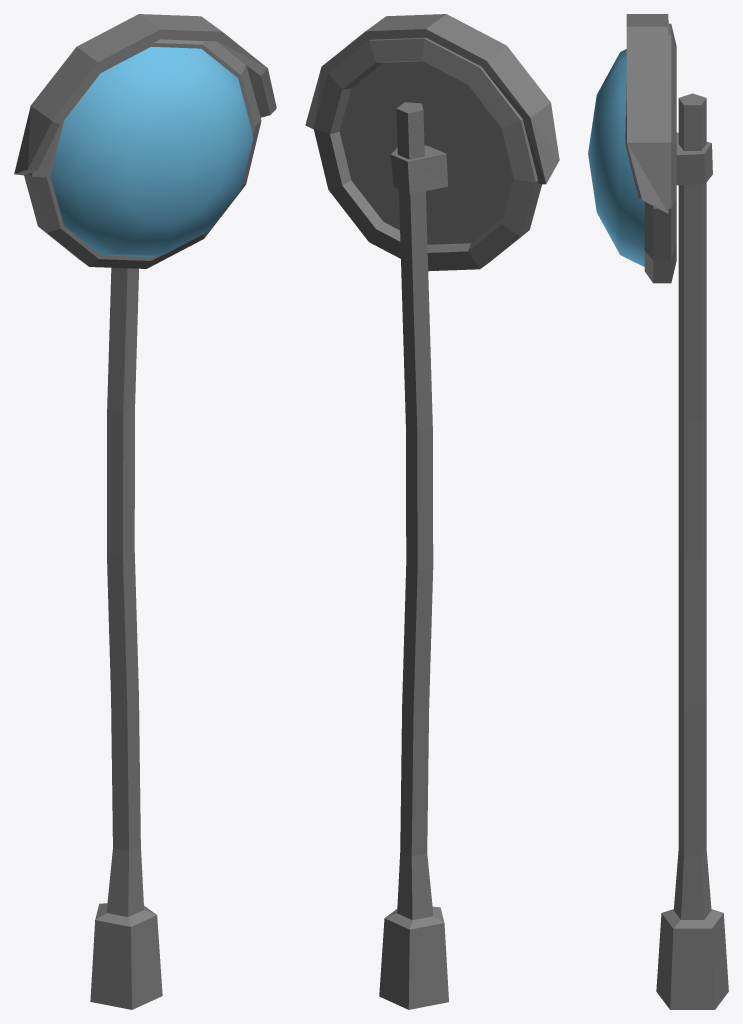
The model's file is SM_mirror_01.fbx.
3 renders of one model, left to right at view 1: azimuth 30°, elevation 25°; view 2: azimuth 150°, elevation 25°; view 3: azimuth 270°, elevation 25°, orthographic. The views are drawn at different scales.
Visible parts, largest first — view 1: Object004; view 2: Object004; view 3: Object004.
Part boxes in pixels (x1,y1,x2,y2): Object004: (14,14,276,1009); Object004: (305,14,559,1009); Object004: (588,14,728,1009).
Size of the model in its own units: 37.59 by 143 by 18.73.
